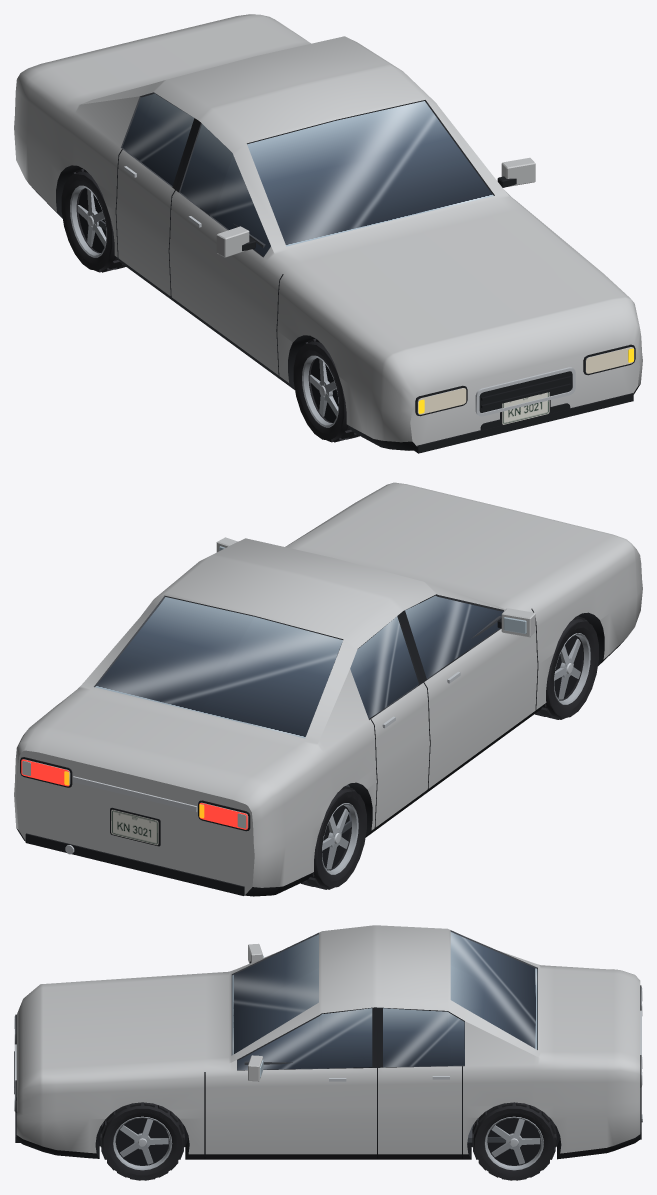
Rendered from Sedan.fbx.
The picture shows the model from 3 angles, top to bottom: view 1: azimuth 30°, elevation 25°; view 2: azimuth 150°, elevation 25°; view 3: azimuth 270°, elevation 25°; orthographic projection. The views are drawn at different scales.
Visible parts, largest first — view 1: Body, Wheel_FR, Wheel_RR; view 2: Body, Wheel_FR, Wheel_RR; view 3: Body, Wheel_FL, Wheel_RL.
Part boxes in pixels (x1,y1,x2,y2): Body: [14, 14, 642, 453]; Wheel_FR: [293, 338, 359, 442]; Wheel_RR: [61, 168, 125, 272]; Body: [14, 482, 642, 896]; Wheel_FR: [535, 616, 598, 719]; Wheel_RR: [300, 786, 366, 889]; Body: [14, 925, 642, 1159]; Wheel_FL: [100, 1102, 184, 1180]; Wheel_RL: [472, 1102, 556, 1180].
Bounding box in the file's own units: 2.19 × 1.45 × 4.74.
